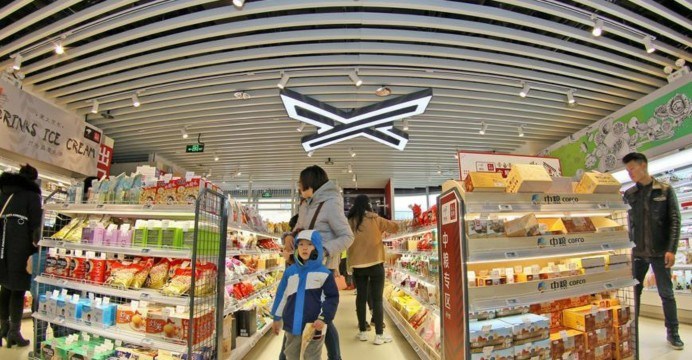Age_20_30: (621, 156, 653, 185)
Age_below20: (292, 234, 325, 263)
E_Asian: (292, 234, 325, 263), (621, 156, 653, 185)
Emotion_Neutral: (292, 234, 325, 263), (621, 156, 653, 185)
G_Male: (292, 234, 325, 263), (621, 156, 653, 185)
Not_Face: (294, 163, 329, 190), (17, 162, 41, 184), (352, 195, 373, 215)
